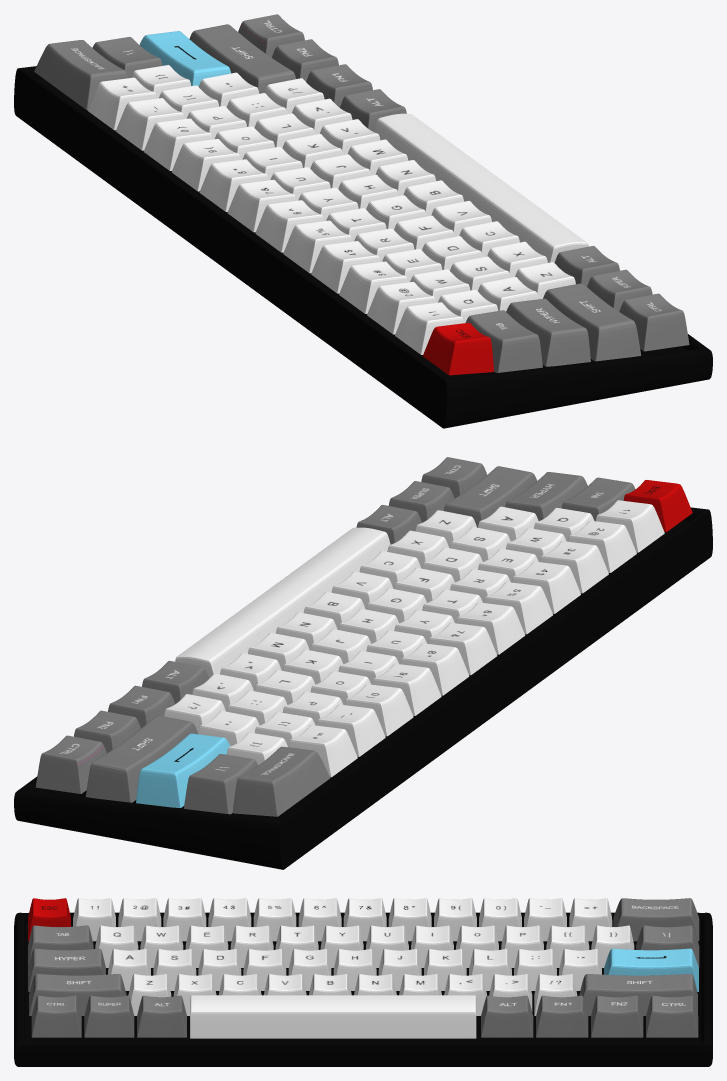
File: 60_Keyboard_1_minimalist_1.glb
3 views of the same model, one above another, from view 1: azimuth 30°, elevation 25°; view 2: azimuth 150°, elevation 25°; view 3: azimuth 270°, elevation 25° (orthographic). The views are drawn at different scales.
Parts seen in each view (by area): view 1: Plane; view 2: Plane; view 3: Plane.
Part boxes in pixels (x1,y1,x2,y2): Plane: (14,14,712,428); Plane: (14,457,712,869); Plane: (14,898,712,1066).
Size of the model in its own units: 4.25 by 1.38 by 11.86.
2 materials, 1 textured.
